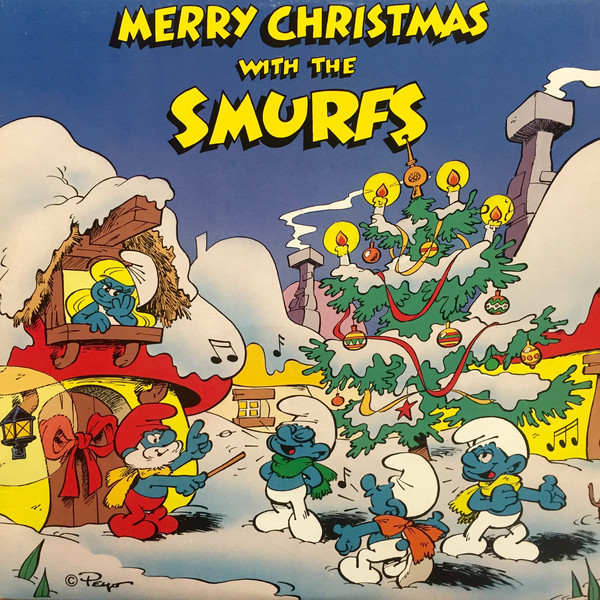smurf: (440, 417, 570, 560), (335, 452, 450, 589), (105, 403, 215, 542), (253, 394, 338, 543), (65, 250, 165, 334)
